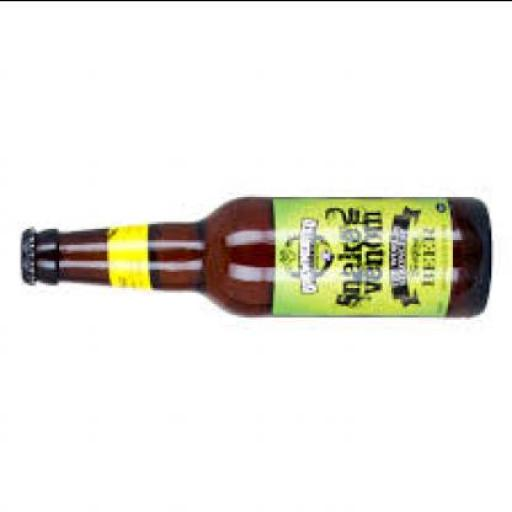glass: (29, 196, 492, 321)
metal: (16, 232, 32, 289)
